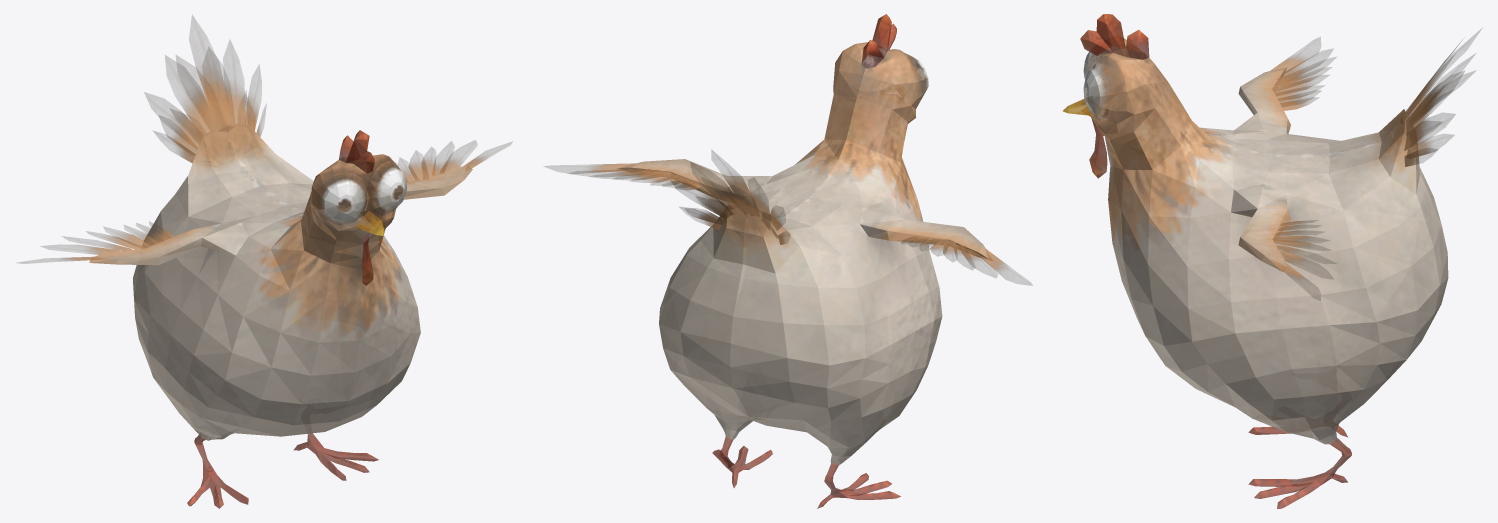
3 views of the same model, side by side, from view 1: azimuth 30°, elevation 25°; view 2: azimuth 150°, elevation 25°; view 3: azimuth 270°, elevation 25° (orthographic). The views are drawn at different scales.
Parts seen in each view (by area): view 1: Object_2; view 2: Object_2; view 3: Object_2.
Boxes of the visible parts, bbox=[...] form: Object_2: bbox=[18, 15, 512, 508]; Object_2: bbox=[544, 14, 1032, 508]; Object_2: bbox=[1062, 14, 1481, 508].
Size of the model in its own units: 0.8541 by 0.6717 by 0.5745.
1 material, 1 textured.
